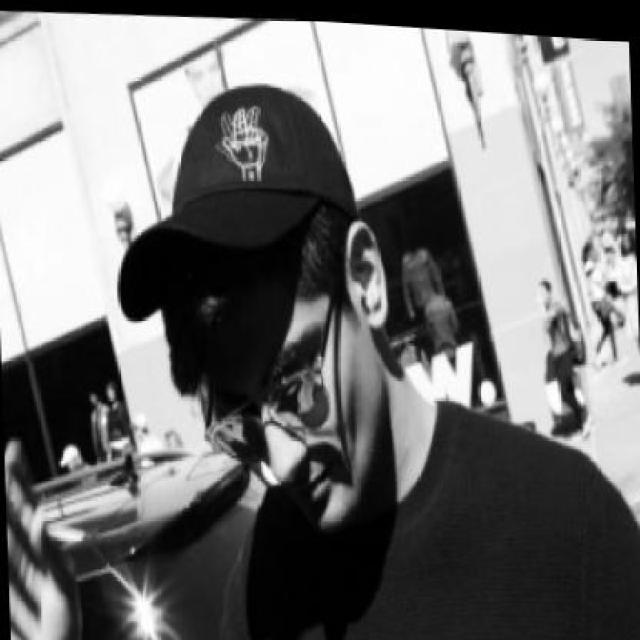hat: (105, 70, 364, 338)
